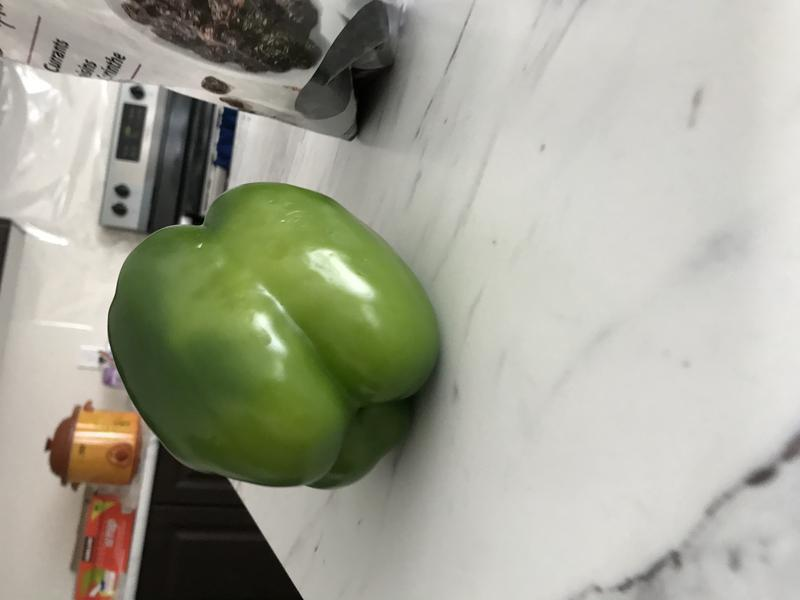green_pepper: (93, 168, 446, 503)
